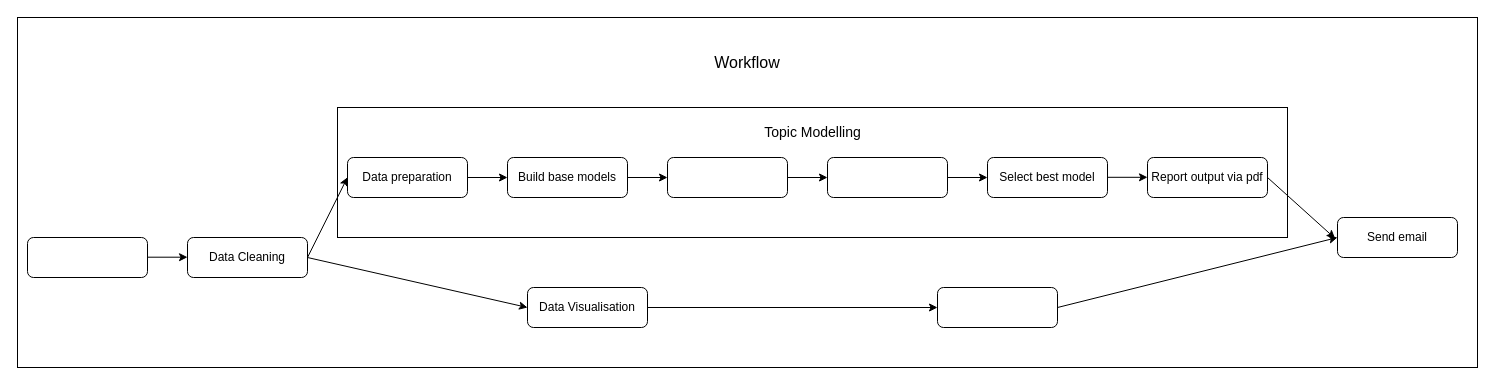
Image size: 1495x385. Some labels were removed from this diagram. The box of each missing label's shape, as (x1, y1, x2, y2) in pixels:
Evaluate based on test data: (826, 156, 948, 198)
Report generation: (936, 286, 1058, 328)
Tune selected models: (666, 156, 788, 198)
Webscraping: (26, 236, 148, 278)
